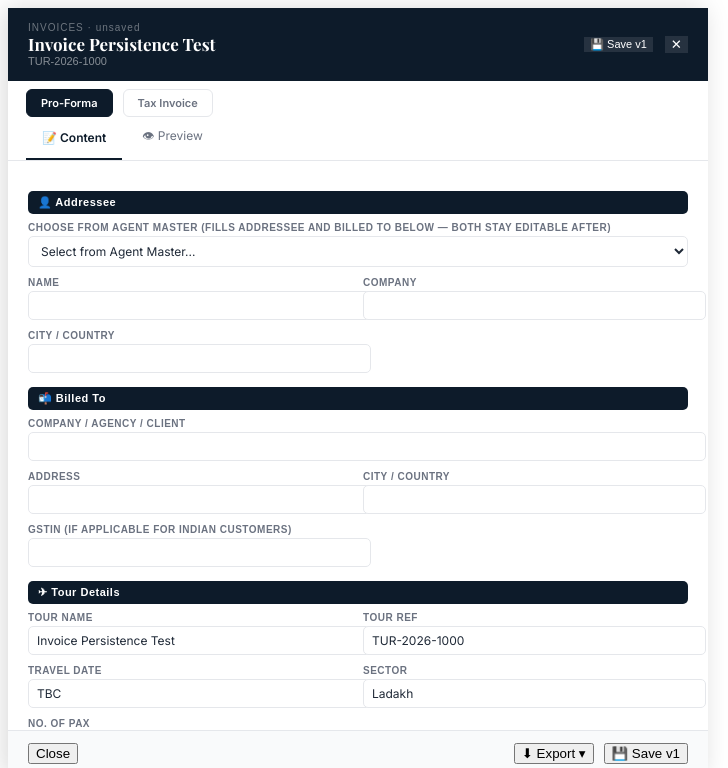
Test: InvoiceGenerator: Addressee vs Billed To -- kept as two separate blocks, Agent Master picker cascades from one into the other › selecting an agent for Addressee fills Name/Company/City there, and cascades Company/Address/City/GSTIN into Billed To
Step 1. Select "NCH Holidays" in the dropdown showing "Select from Agent Master..." → [358, 252], box 28,236 -> 688,267
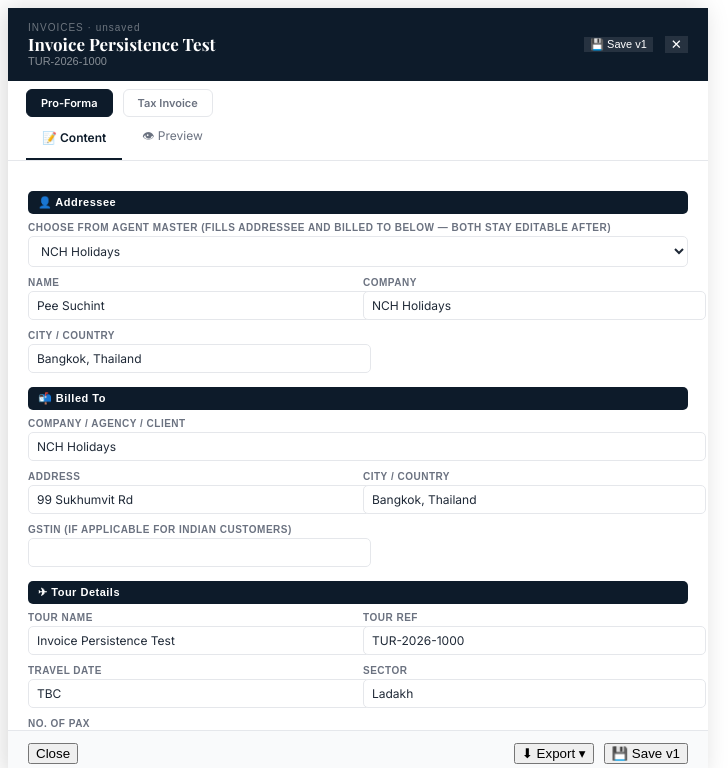
Expected: the number of fields showing "Bangkok, Thailand" is 2, 28,344 -> 371,373; 363,485 -> 706,514
Expected: the 1st field showing "Pee Suchint" is shown, 28,291 -> 371,320
Expected: the 5th field showing "99 Sukhumvit Rd" is shown, 28,485 -> 371,514
